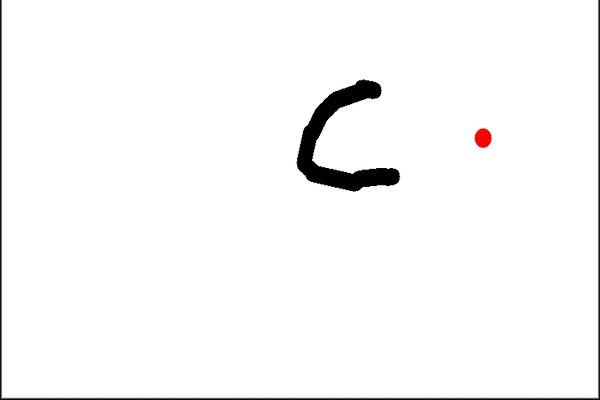C: (292, 73, 405, 193)
